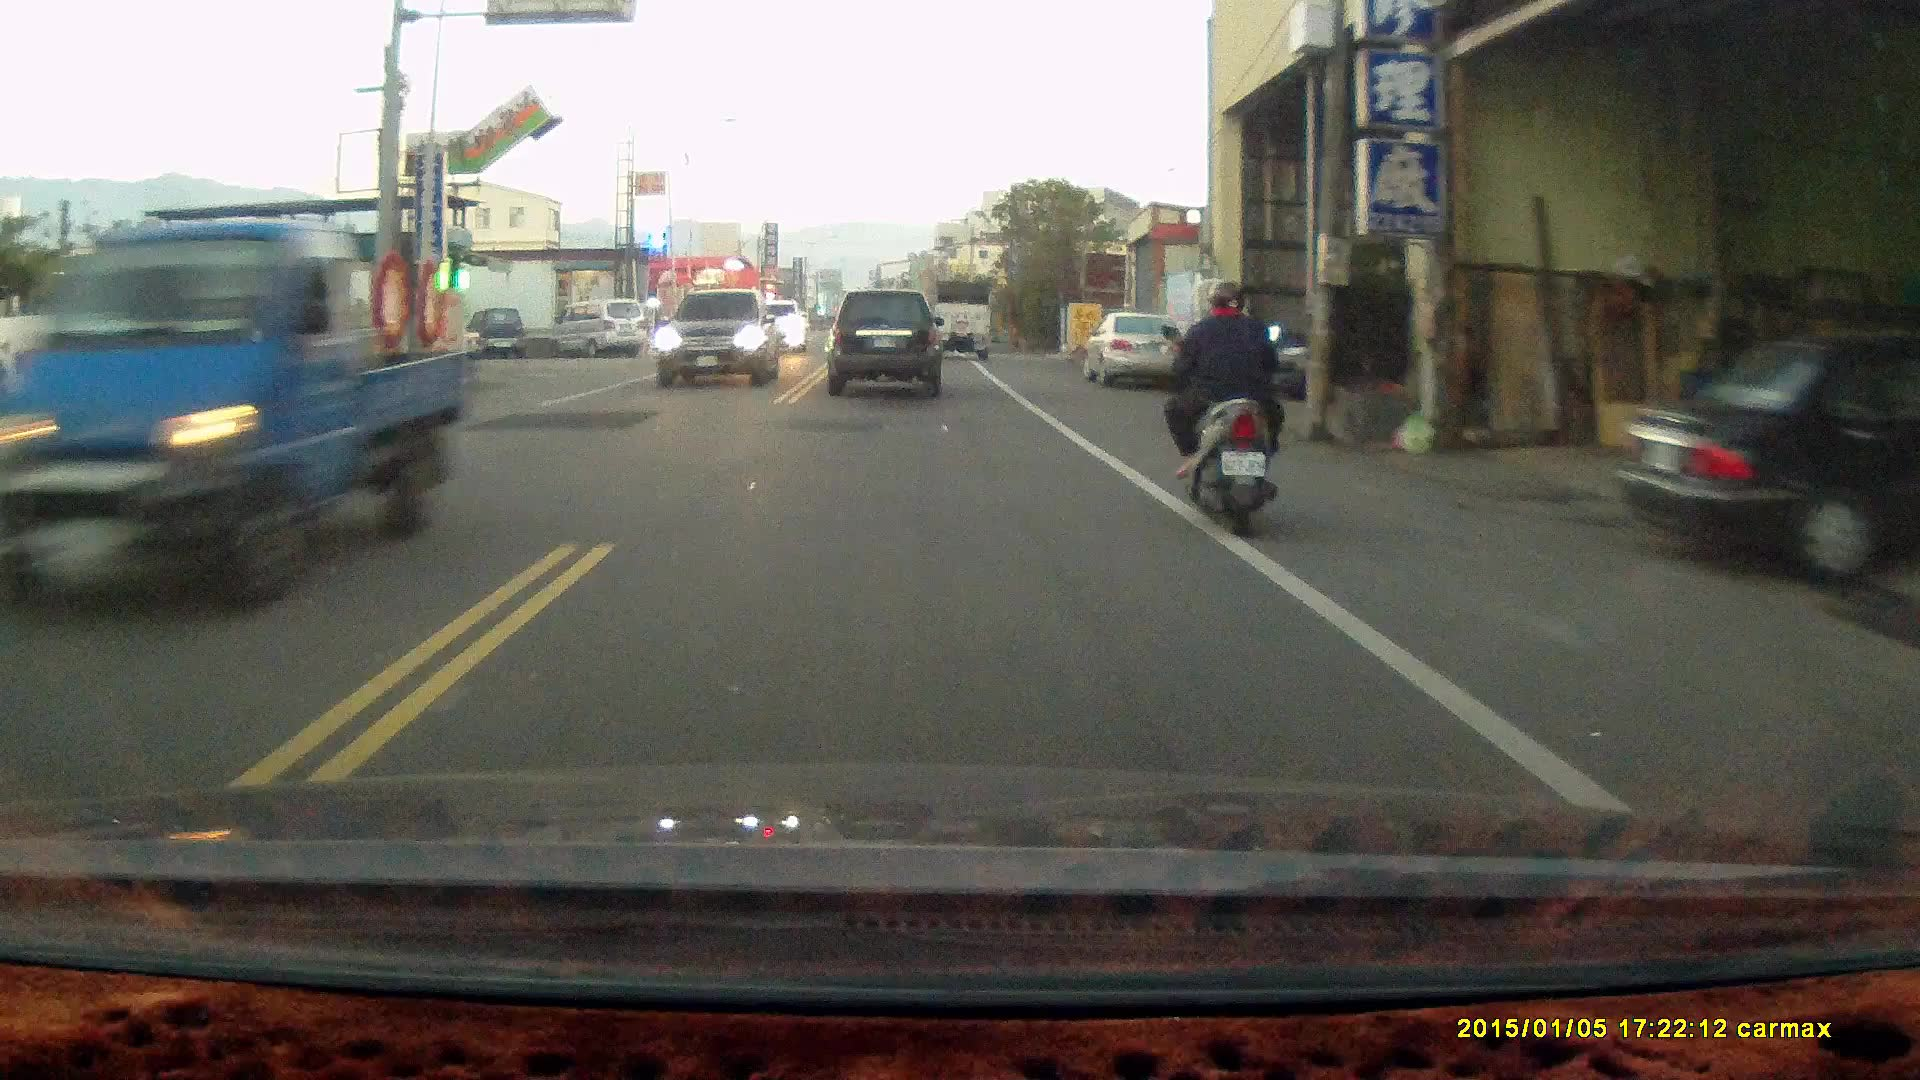rider: (1157, 273, 1287, 538)
vehicle: (1, 218, 475, 611), (1622, 318, 1919, 591), (654, 287, 786, 392), (827, 289, 944, 398), (1082, 312, 1180, 386), (553, 298, 648, 358), (927, 269, 996, 350)
